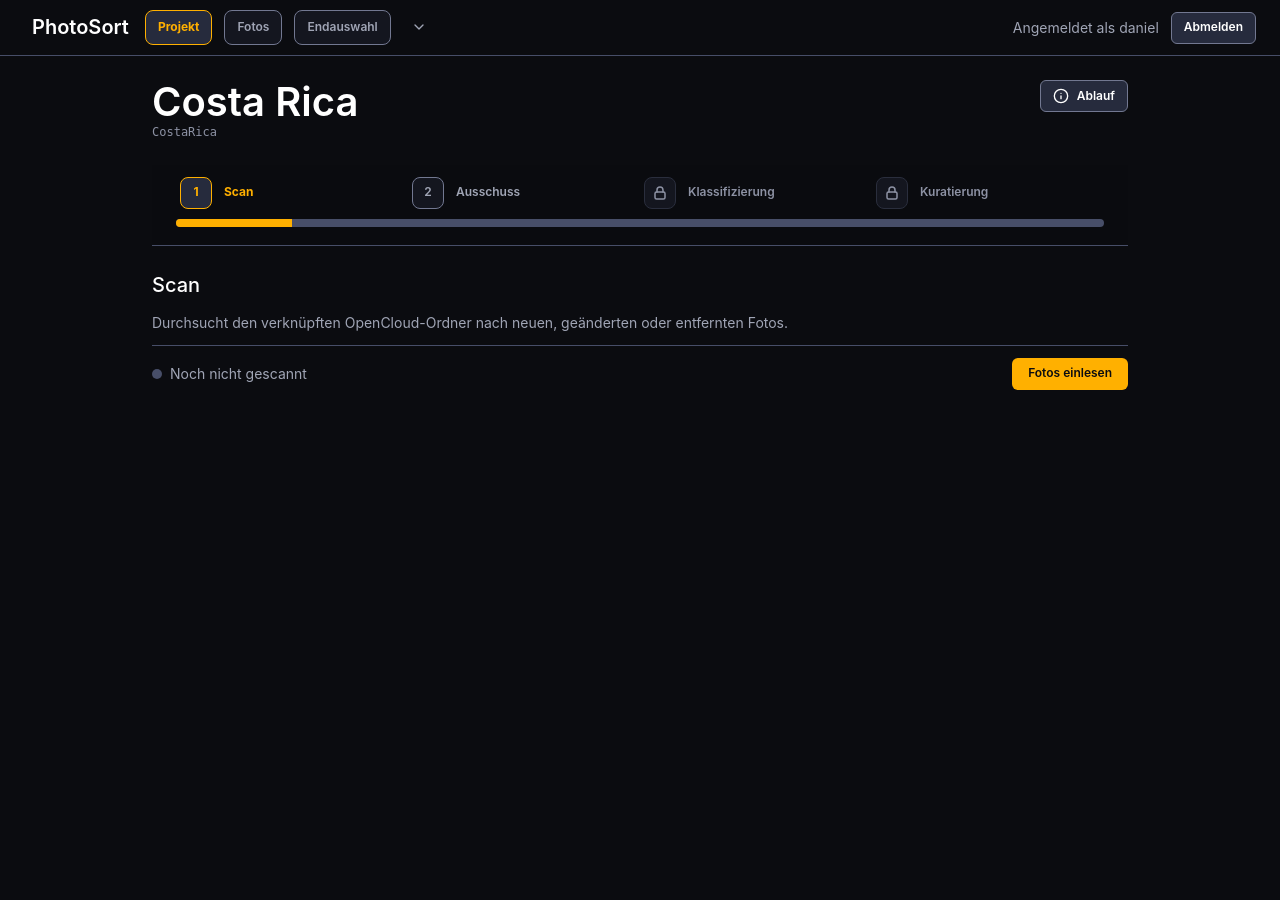
it: App - Projekt-Navigationsgruppe in der Kopfzeile › fuehrt den Statistik-Link genau einmal, und nur bei geoeffnetem Bereich (AK9)
Expected: the navigation bar named "Projektbereiche" is shown, top-left (145, 10), bottom-right (435, 45)
Click the button named "Projektbereiche" at (419,28), box top-left (403, 12), bottom-right (435, 44)
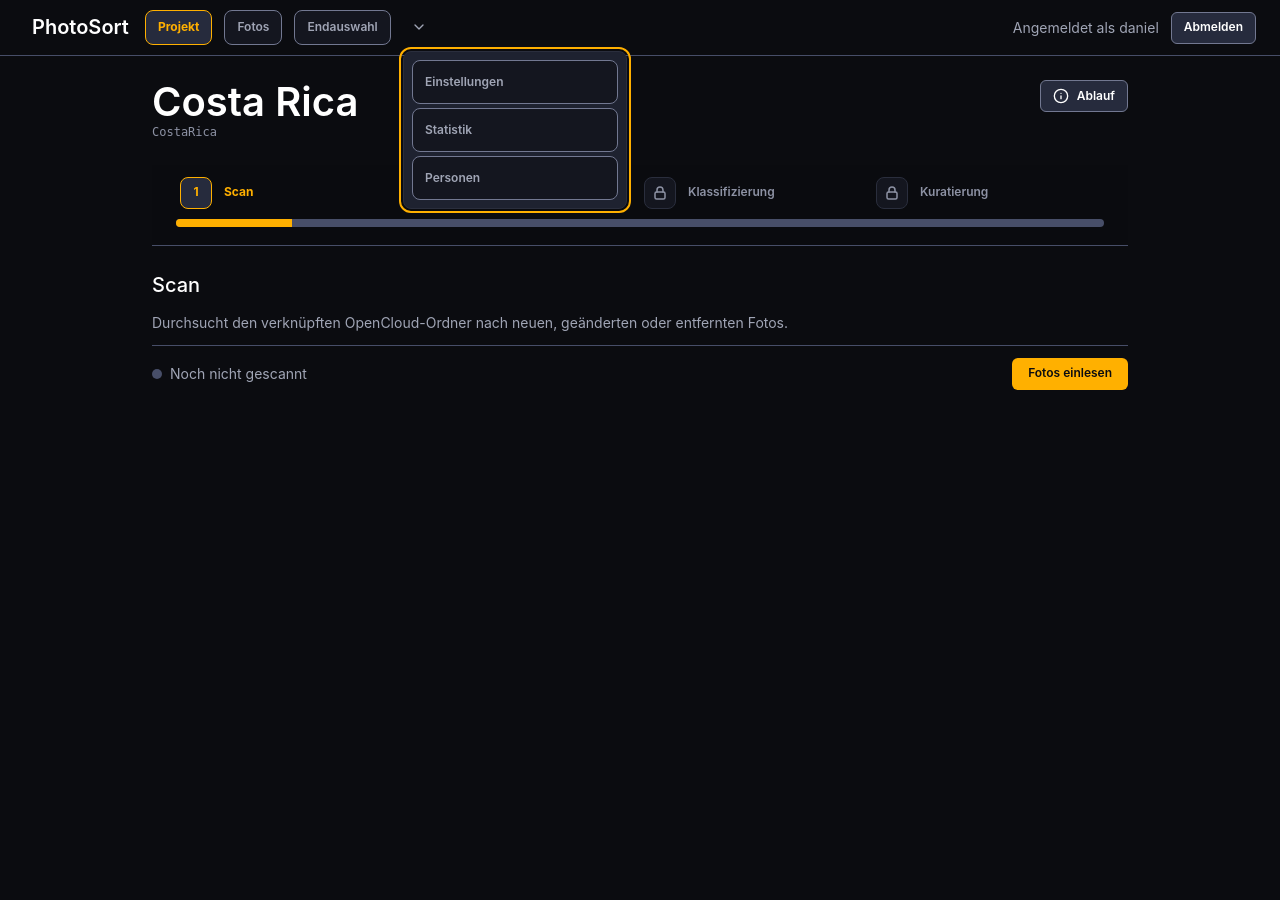
Now the dialog is shown, box top-left (403, 51), bottom-right (627, 209)
Now the number of links to "/projects/1/stats" is 1, box top-left (412, 108), bottom-right (618, 152)
